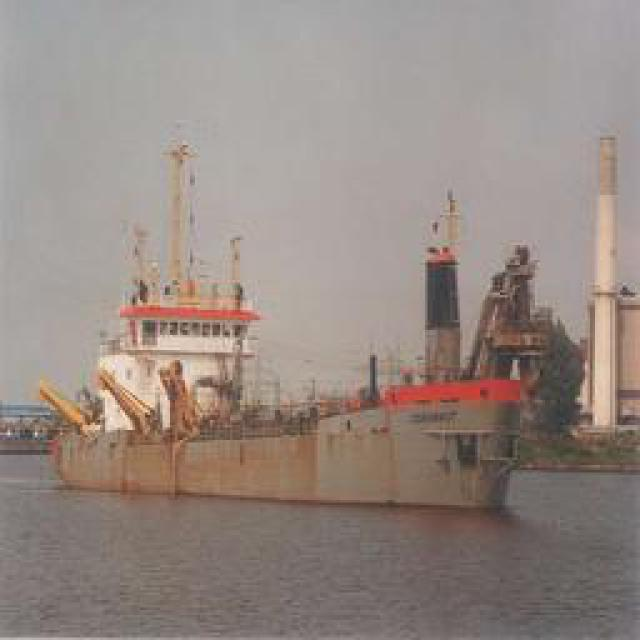Ship: (28, 128, 536, 527)
